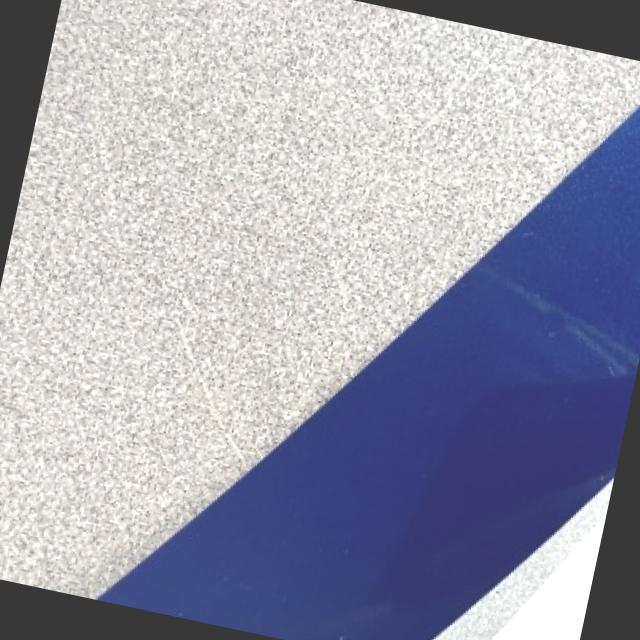healthy: (0, 0, 640, 597), (104, 111, 640, 640)
